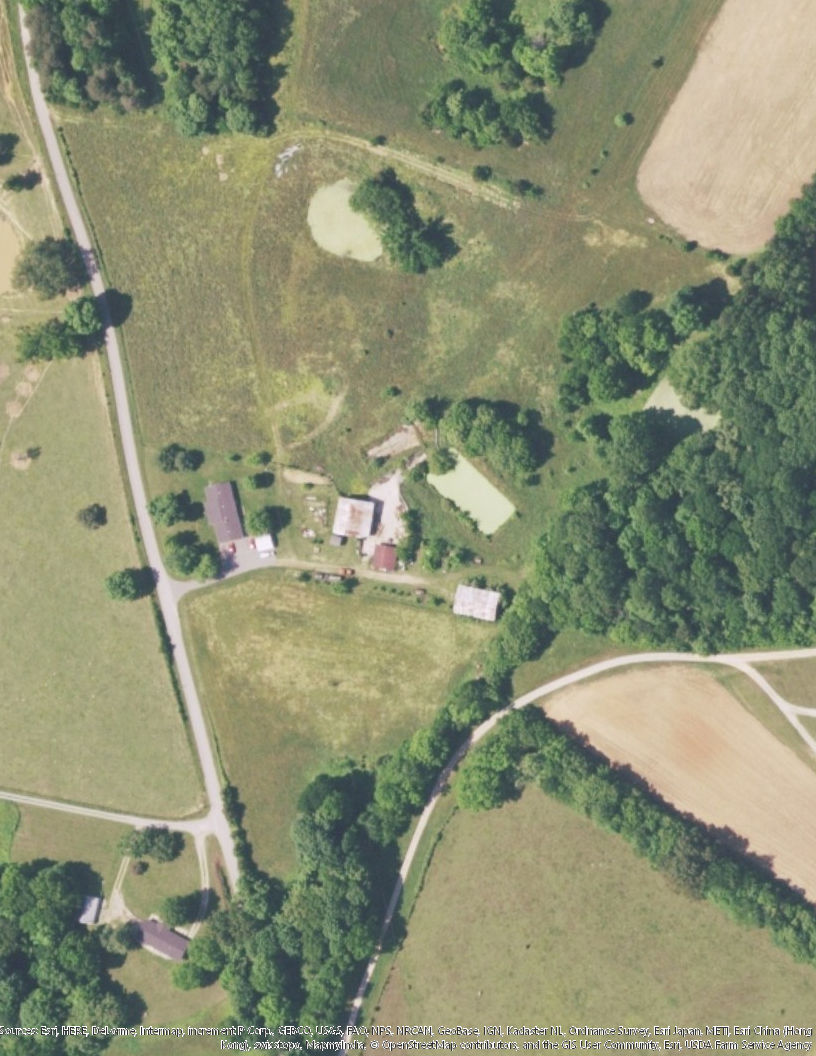cafo: (447, 577, 505, 628), (329, 487, 379, 545)
